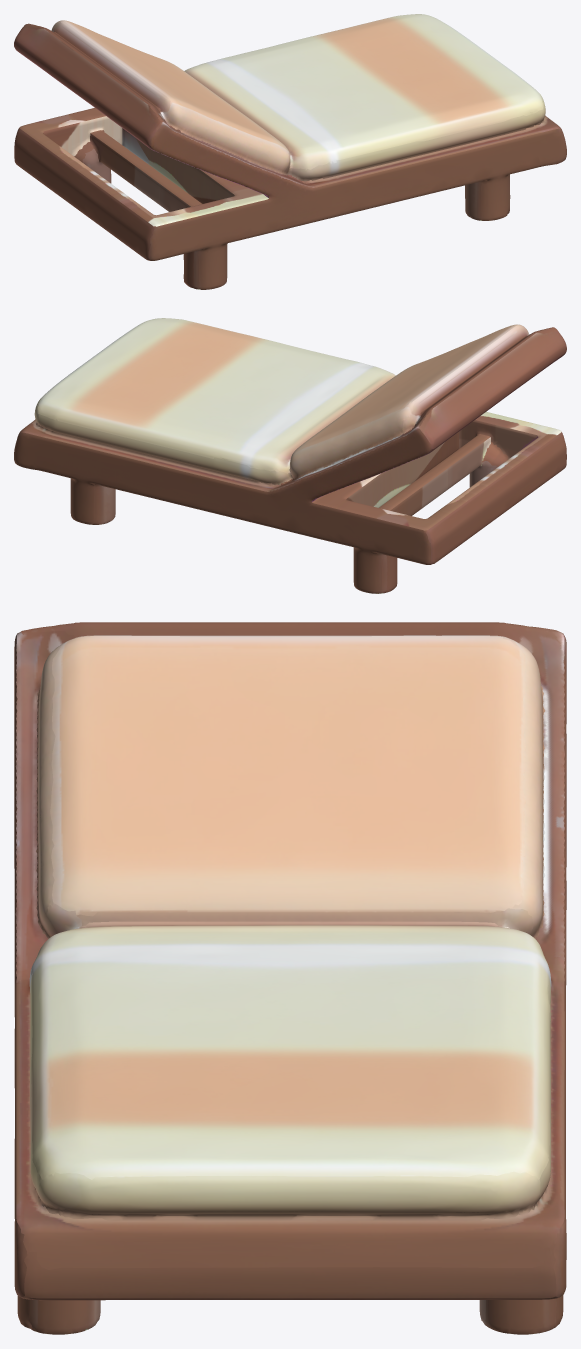
File: chair.glb
The picture shows the model from 3 angles, top to bottom: view 1: azimuth 30°, elevation 25°; view 2: azimuth 150°, elevation 25°; view 3: azimuth 270°, elevation 25°; orthographic projection. The views are drawn at different scales.
Visible parts, largest first — view 1: tmpk8vt35jk.ply; view 2: tmpk8vt35jk.ply; view 3: tmpk8vt35jk.ply.
Boxes of the visible parts, <box> form: tmpk8vt35jk.ply: <box>14,14,566,289</box>; tmpk8vt35jk.ply: <box>14,318,566,593</box>; tmpk8vt35jk.ply: <box>14,622,566,1334</box>.
Size of the model in its own units: 0.9881 by 0.4221 by 0.5622.
Materials: 1 (1 with a texture image).
